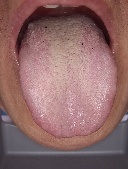tongue: (14, 11, 121, 139)
